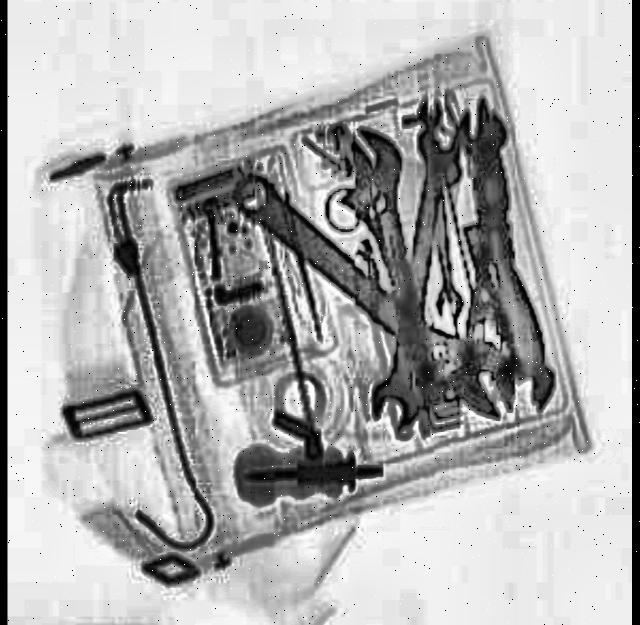Wrench: (217, 150, 532, 436), (336, 114, 456, 416), (364, 122, 464, 436)
